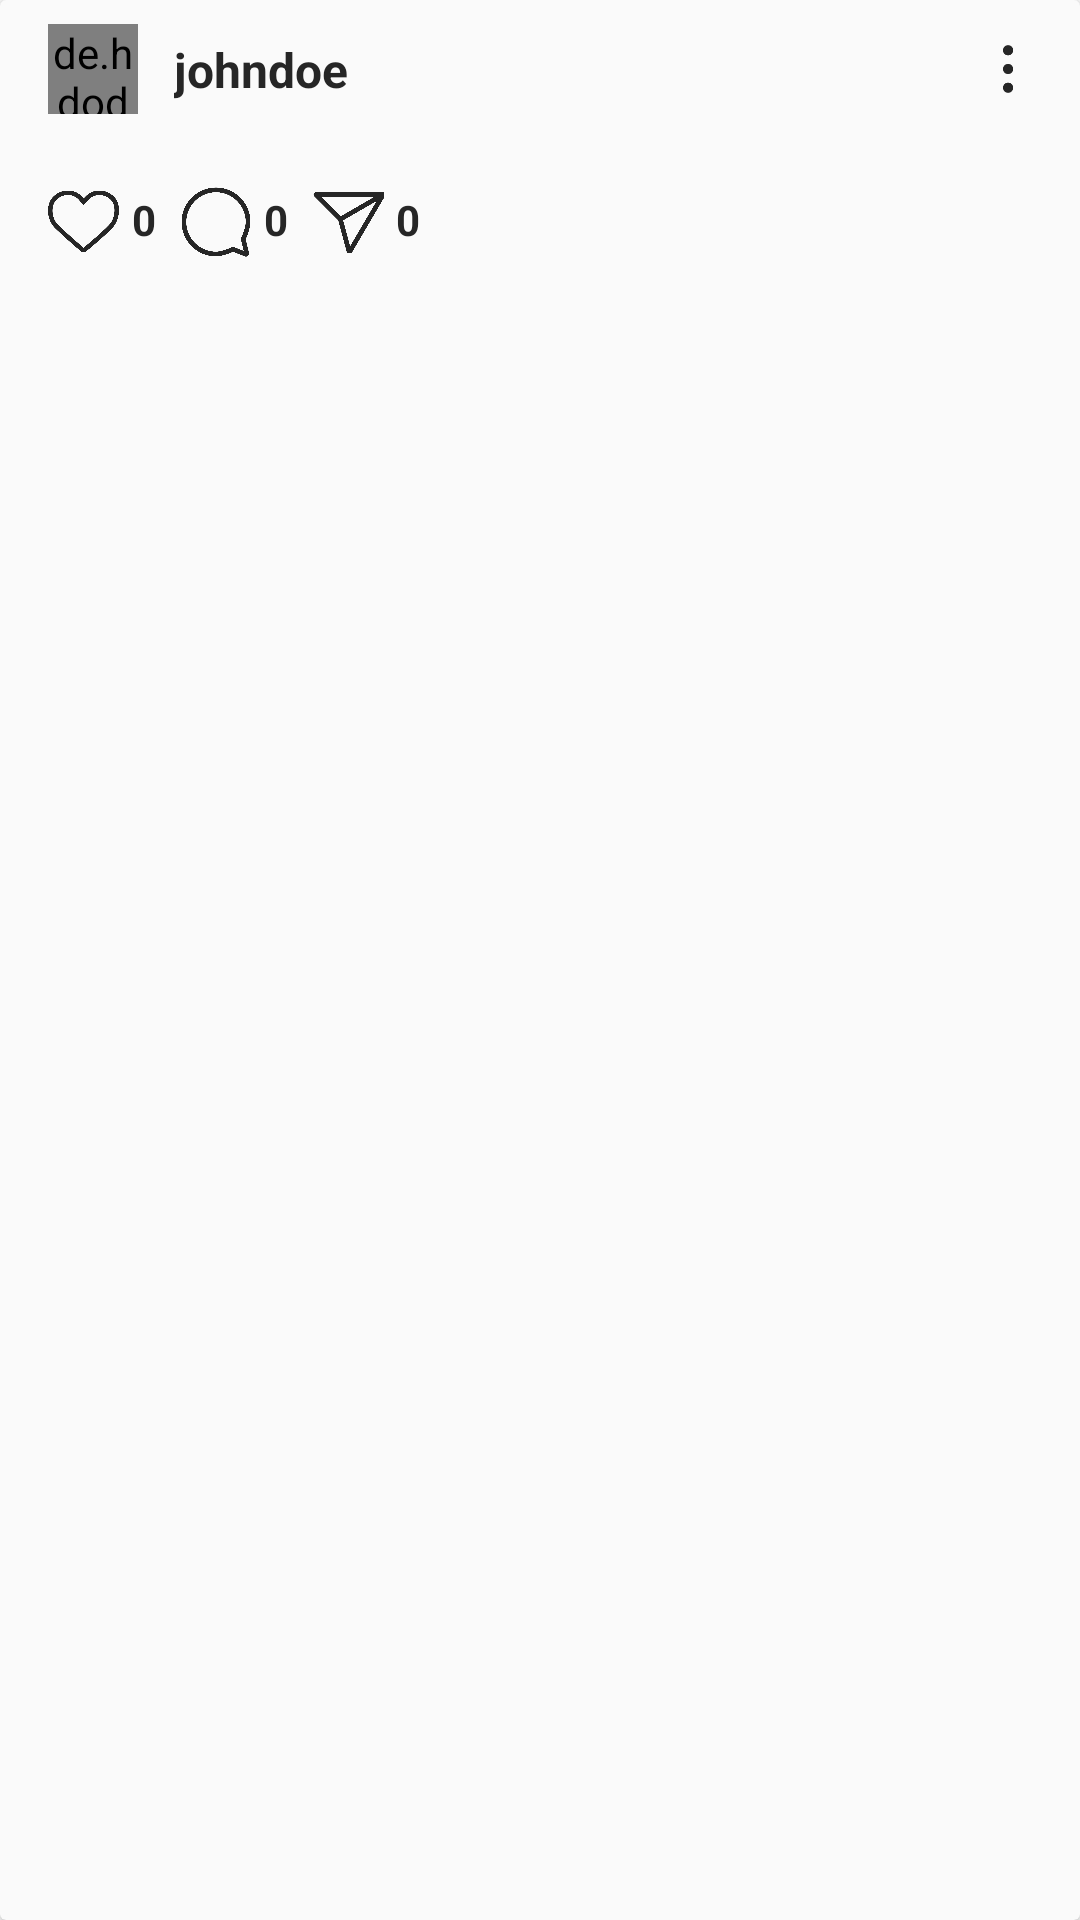

Named icons in this screenshot (1080*1920) and their centers, (x,y):
chat: (216,222)
heart: (83,221)
more settings: (1008,69)
send: (348,222)
